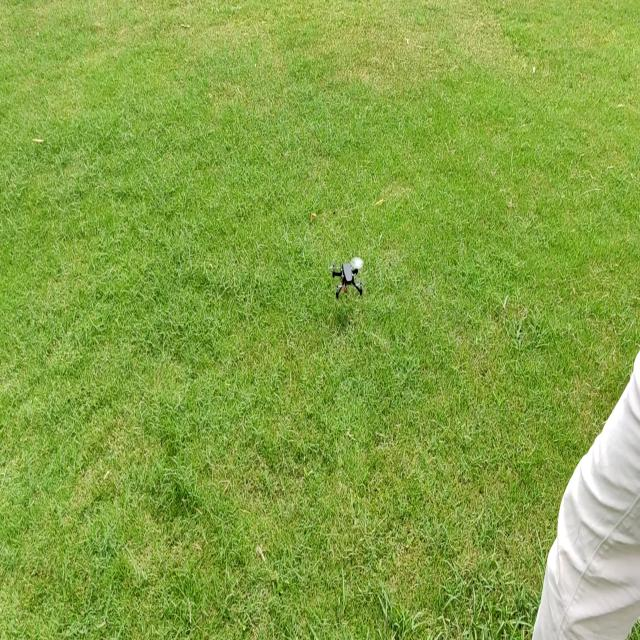drone: (314, 256, 372, 308)
